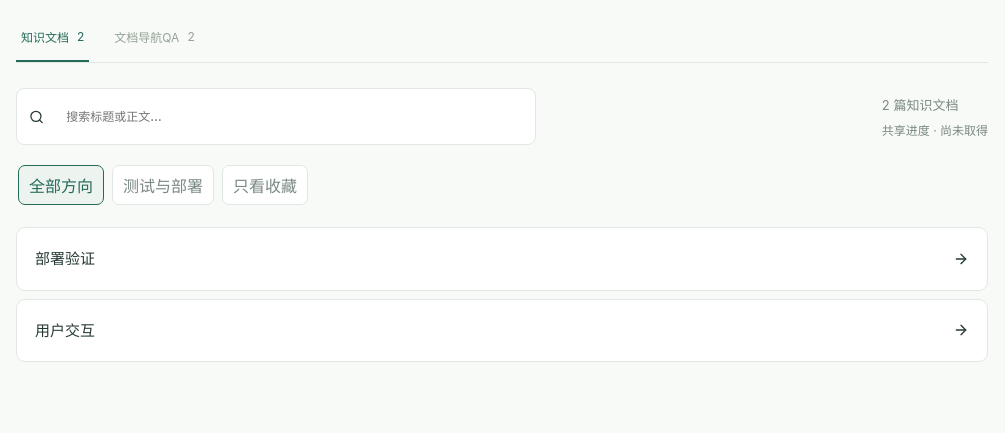
Test: keeps assessment references out of knowledge lists, search and categories
The image size is (1005, 433).
expect the button "用户交互" is shown: met, box [16, 298, 988, 362]
expect the text "2 篇知识文档" is shown: met, box [882, 95, 988, 138]
Type "考核" into the search field named "搜索知识文档". click: (289, 116)
box: [54, 98, 523, 135]
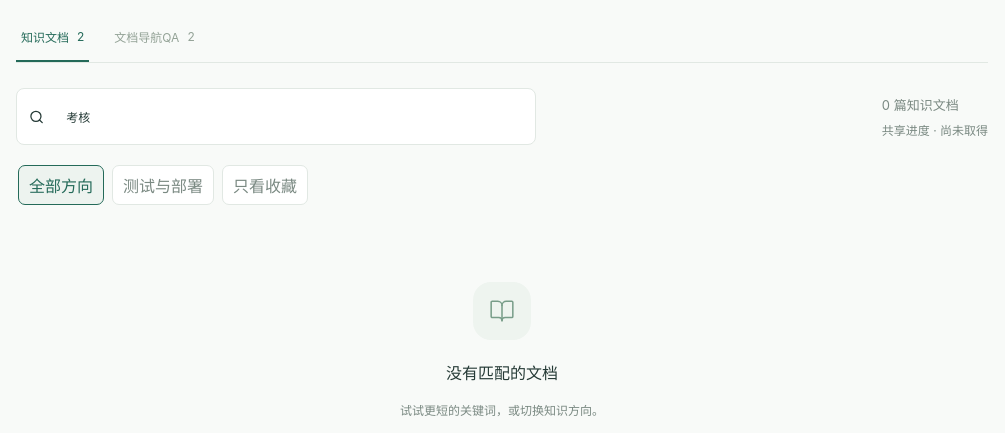
expect the heading "没有匹配的文档" is shown: met, box [446, 363, 558, 383]
Press ArrowRight in the tab "知识文档 2", box [16, 18, 89, 62]
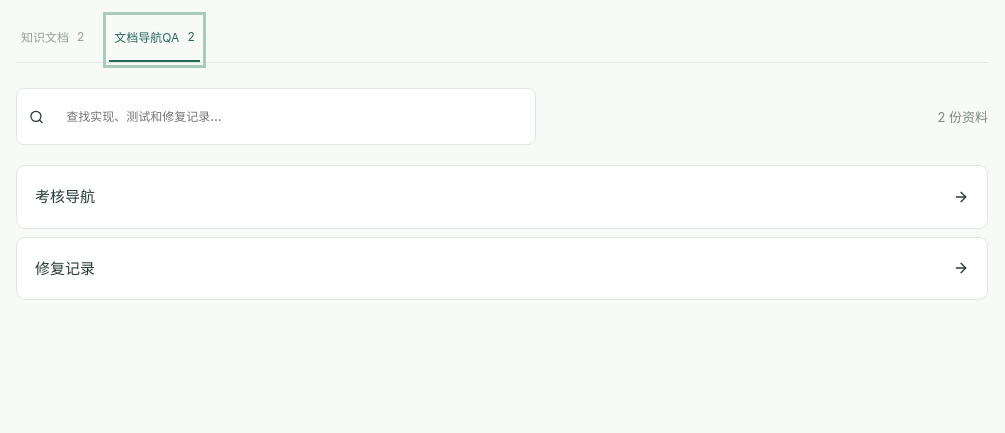
expect the button "考核导航" is shown: met, box [16, 165, 988, 228]
expect the text "知识方向" is gone: met
expect the text "2 份资料" is shown: met, box [937, 107, 988, 126]
